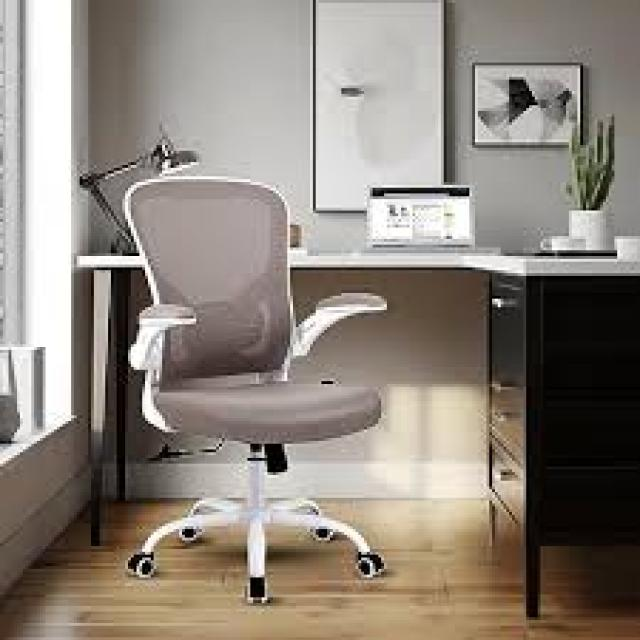chair: (88, 156, 464, 620)
